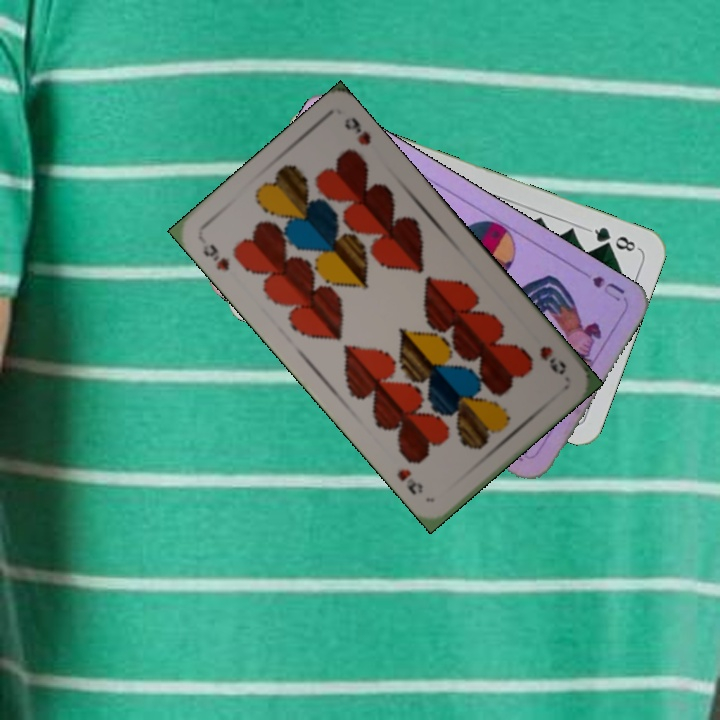G8: (584, 223, 641, 255)
H9: (535, 342, 569, 378), (198, 239, 233, 273)
SU: (573, 264, 628, 304)
